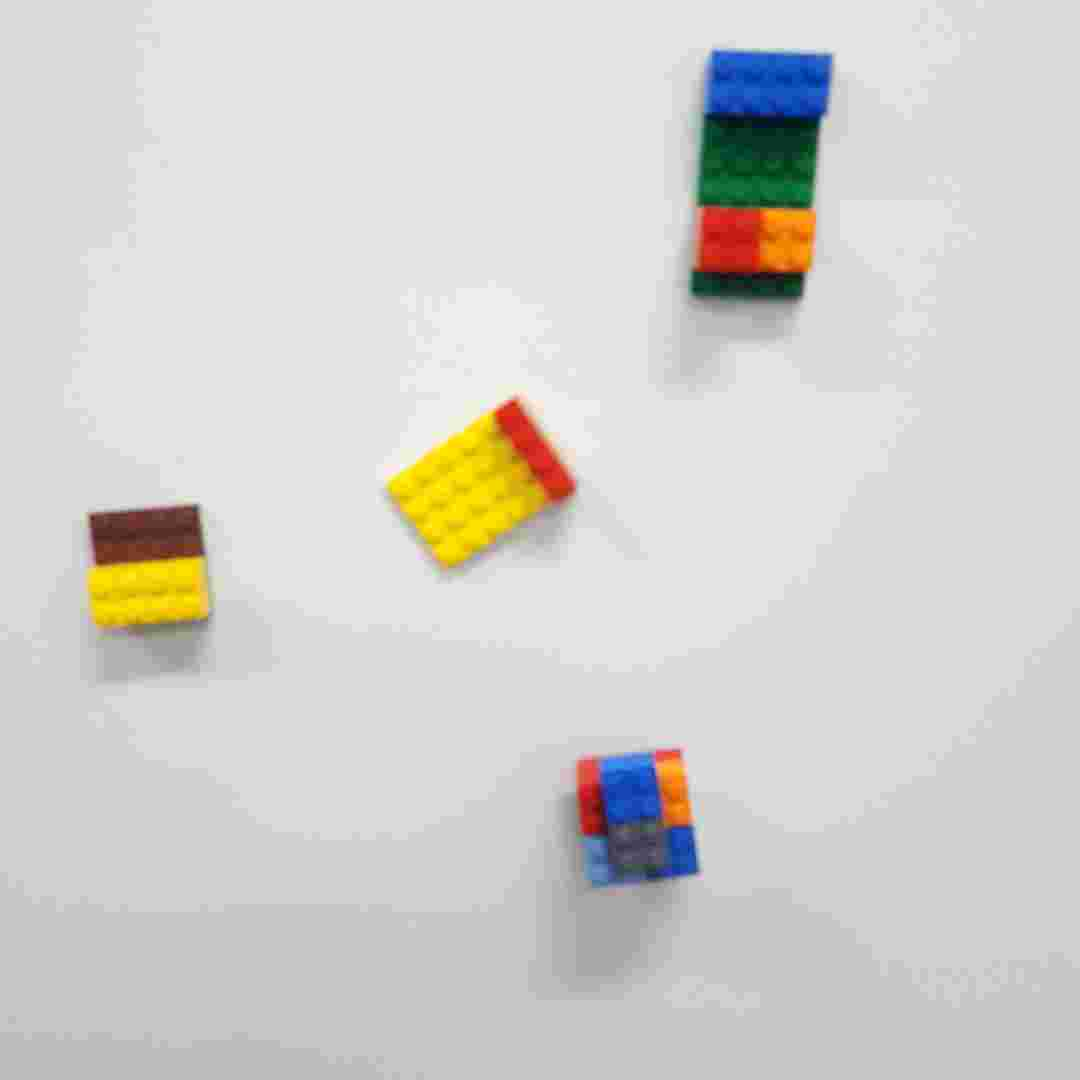LEGO: (680, 40, 838, 310), (383, 386, 579, 579), (74, 490, 230, 641), (575, 745, 714, 907)
